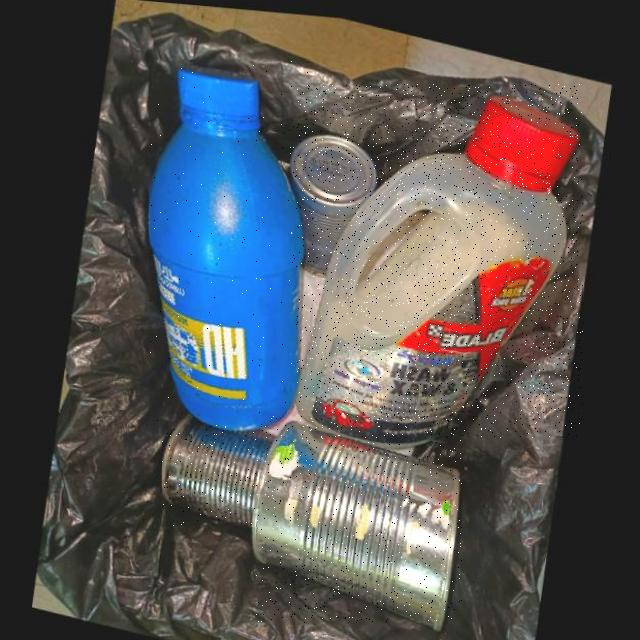metal: (253, 415, 462, 623), (289, 124, 382, 273), (162, 409, 277, 527)
plastic: (298, 84, 583, 438), (150, 60, 308, 425)
